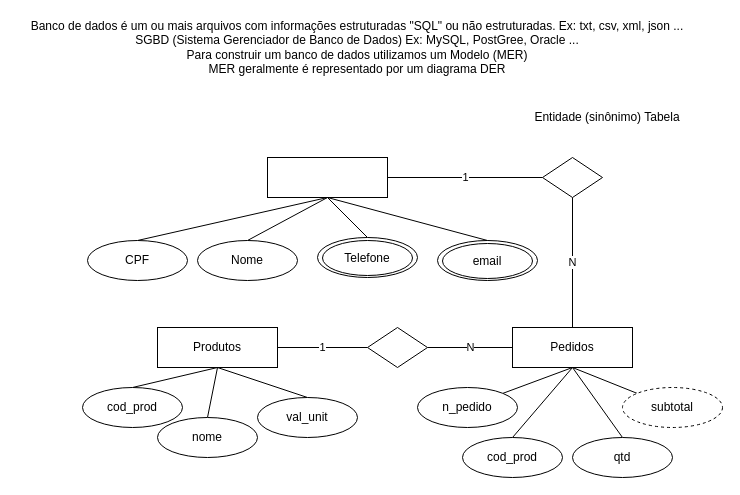
The diagram is 740 pixels wide and 495 high, and some of its shapes have lost their labels. Each missing label, with the box of its shape:
Cliente: (266, 156, 388, 198)
faz: (542, 156, 602, 198)
possui: (366, 326, 428, 368)
